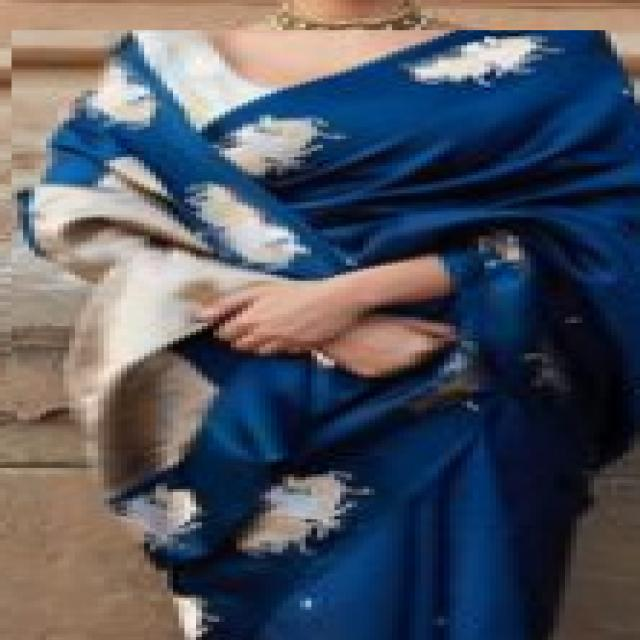Saree: (11, 30, 640, 640)
